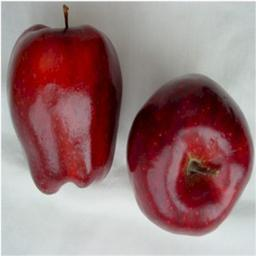apple: (128, 74, 251, 240), (6, 18, 122, 194)
